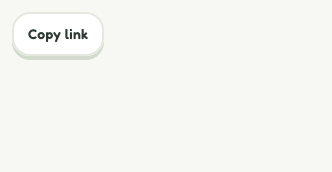
Test: ShareButton › copies the link and says so
Click the button "Copy link". click: (58, 34)
box: [12, 12, 104, 56]
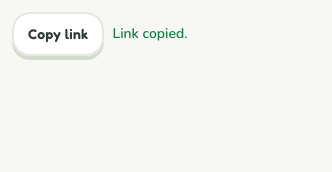
Check: the message reads "Link copied.", box [112, 24, 188, 43]
